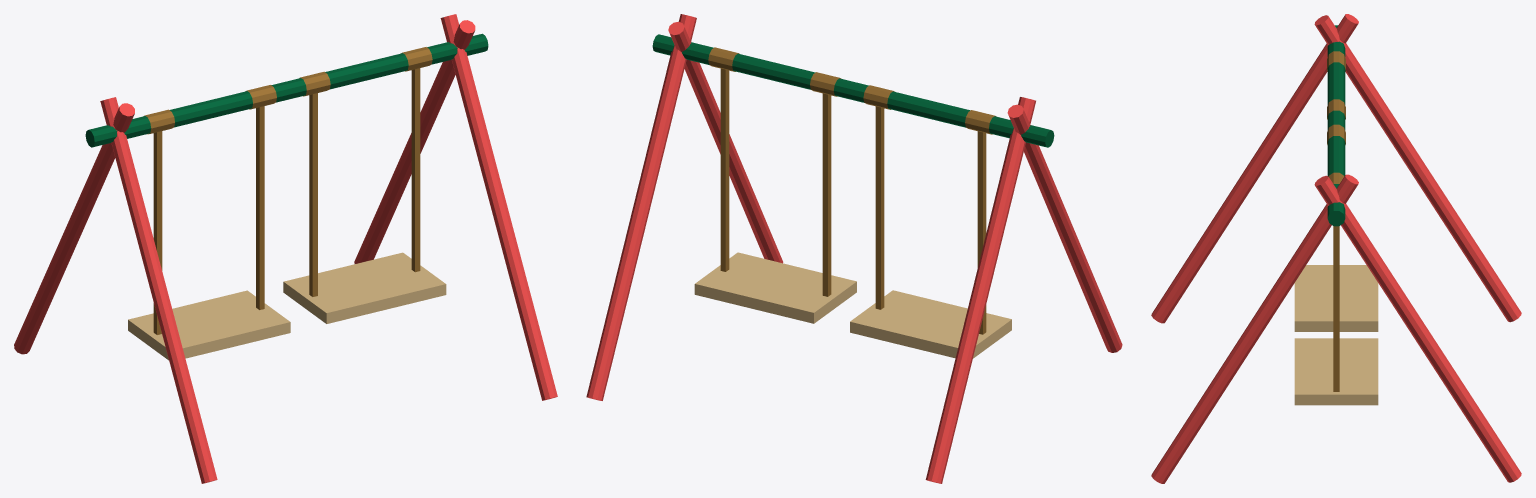
File: Swing.fbx
3 views of the same model, side by side, from view 1: azimuth 30°, elevation 25°; view 2: azimuth 150°, elevation 25°; view 3: azimuth 270°, elevation 25° (orthographic). The views are drawn at different scales.
Visible parts, largest first — view 1: Cylinder.001, Cube.001, Cube, Cylinder, Cube.002, Cube.003; view 2: Cylinder.001, Cube.001, Cube, Cylinder, Cube.002, Cube.003; view 3: Cylinder.001, Cube.001, Cube, Cylinder, Cube.002, Cube.003.
Part boxes in pixels (box(x1,y1,x2,y2)): Cylinder.001: box(14, 14, 557, 483); Cube.001: box(283, 252, 446, 323); Cube: box(128, 290, 290, 360); Cylinder: box(85, 33, 488, 147); Cube.002: box(299, 47, 432, 296); Cube.003: box(144, 85, 276, 334); Cylinder.001: box(586, 14, 1122, 483); Cube.001: box(694, 252, 856, 323); Cube: box(850, 290, 1011, 358); Cylinder: box(652, 34, 1054, 147); Cube.002: box(708, 47, 841, 296); Cube.003: box(863, 85, 996, 334); Cylinder.001: box(1151, 14, 1521, 483); Cube.001: box(1294, 338, 1378, 405); Cube: box(1294, 265, 1378, 331); Cylinder: box(1327, 25, 1345, 226); Cube.002: box(1327, 124, 1345, 391); Cube.003: box(1327, 51, 1345, 119).
Size of the model in its own units: 342 by 264 by 288.
